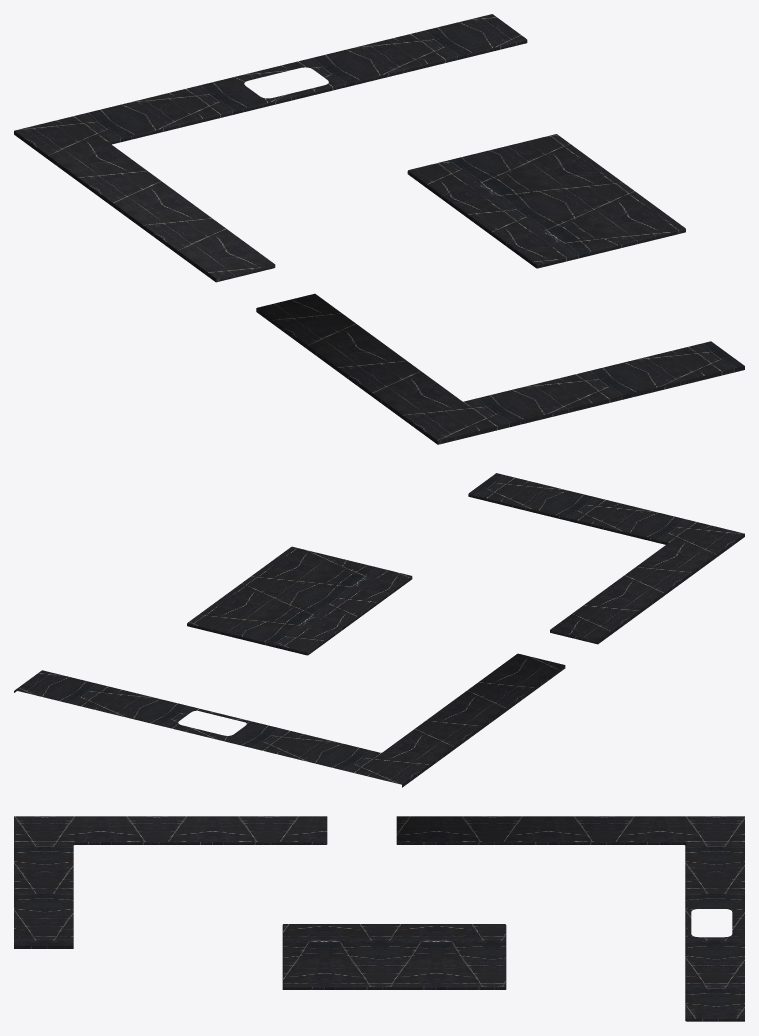
Rendered from Countertops_QuartzEtNoir.glb.
The picture shows the model from 3 angles, top to bottom: view 1: azimuth 30°, elevation 25°; view 2: azimuth 150°, elevation 25°; view 3: azimuth 270°, elevation 25°; orthographic projection. The views are drawn at different scales.
Parts seen in each view (by area): view 1: Countertops_Quartz Et Noir; view 2: Countertops_Quartz Et Noir; view 3: Countertops_Quartz Et Noir.
Boxes of the visible parts, x1,y1,x2,y2 form: Countertops_Quartz Et Noir: (14, 14, 744, 444); Countertops_Quartz Et Noir: (14, 473, 744, 787); Countertops_Quartz Et Noir: (14, 816, 744, 1021).
Bounding box in the file's own units: 6.4 × 0.05 × 9.8.
1 material, 1 textured.
